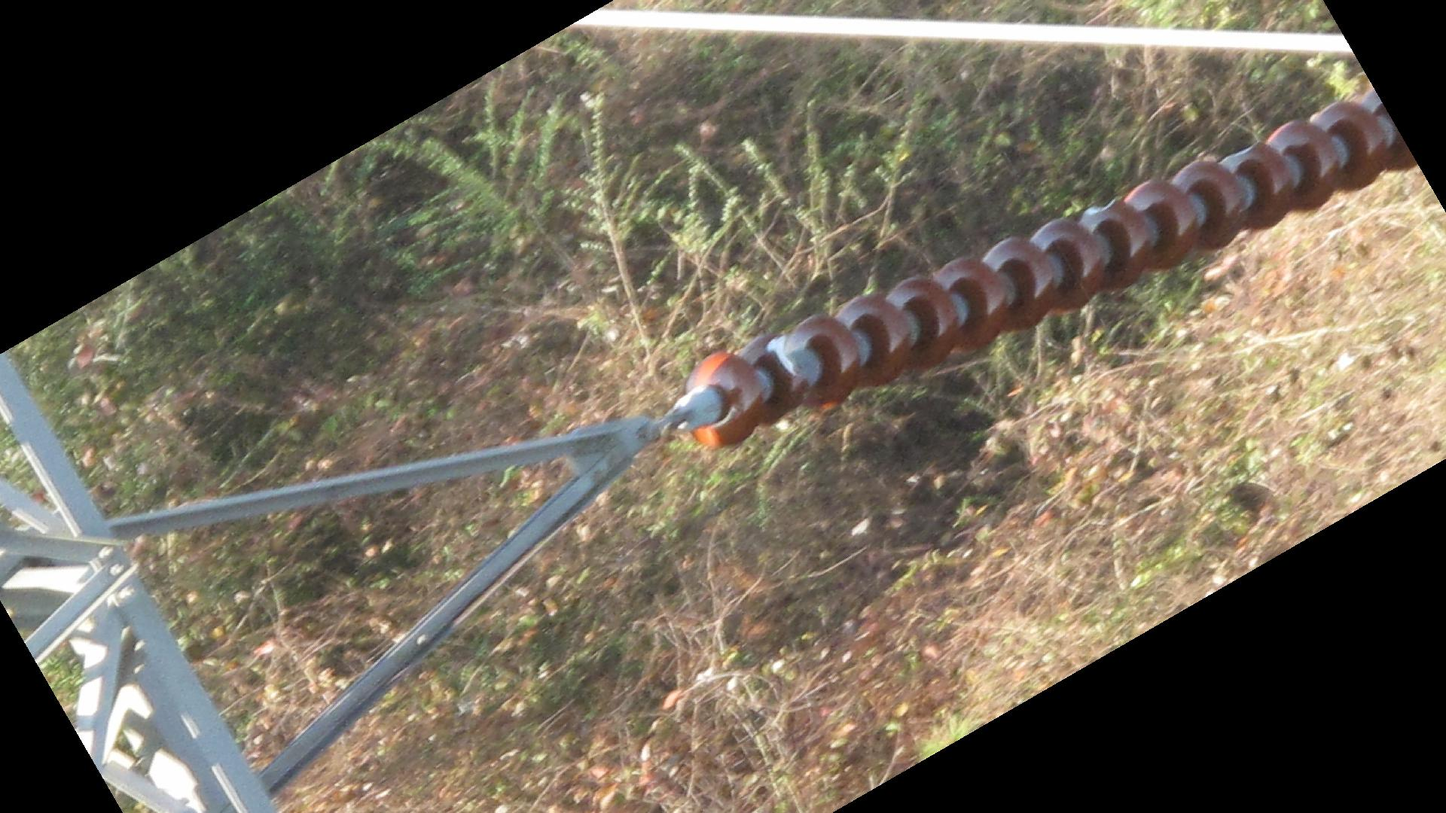insulator: (679, 88, 1423, 455)
insulator_breakage: (760, 330, 804, 382), (1075, 192, 1127, 225), (1220, 136, 1264, 165)
